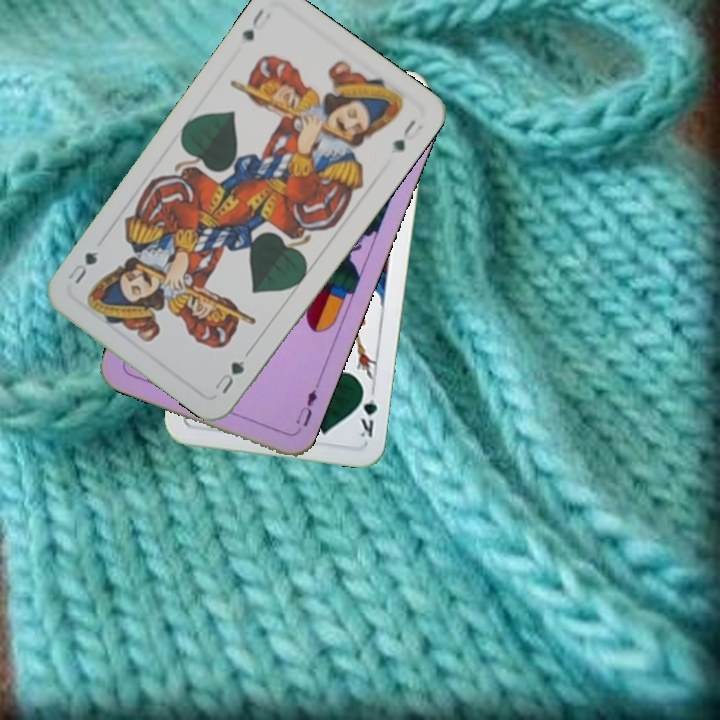EU: (291, 379, 322, 430)
GK: (354, 383, 380, 440)
GU: (211, 356, 247, 397), (238, 4, 274, 44)
